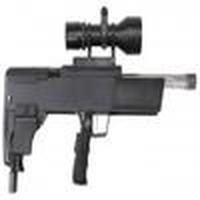gun: (3, 12, 197, 174)
